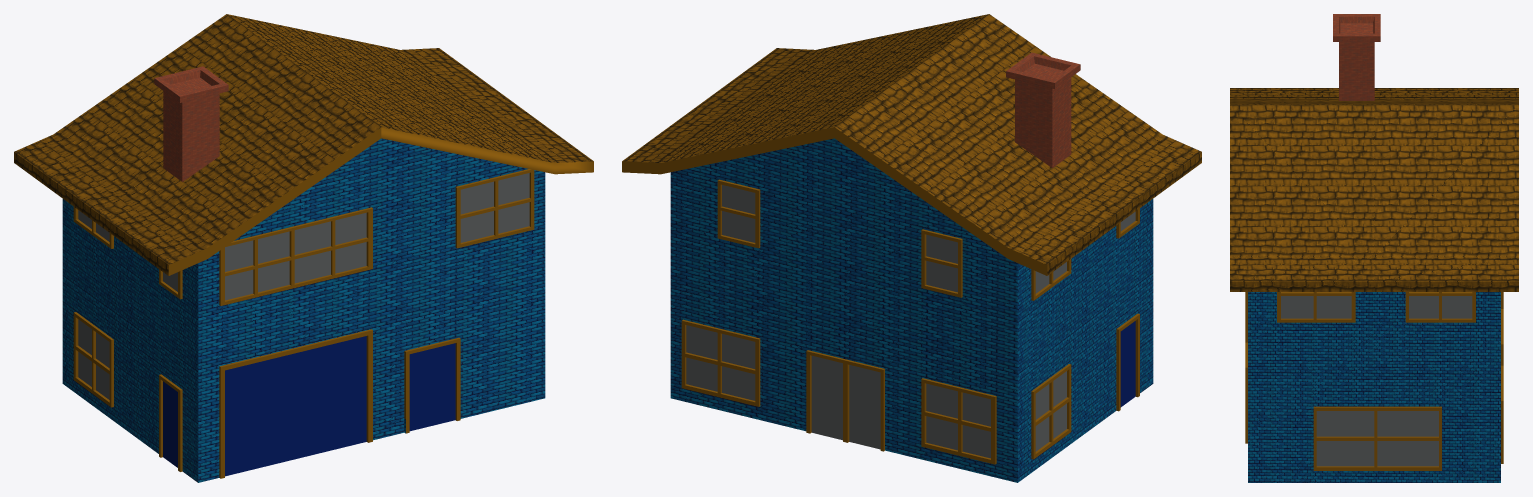
The model's file is House04.fbx.
The picture shows the model from 3 angles, left to right: view 1: azimuth 30°, elevation 25°; view 2: azimuth 150°, elevation 25°; view 3: azimuth 270°, elevation 25°; orthographic projection. The views are drawn at different scales.
Visible parts, largest first — view 1: polySurface3, House04_Roof, House04_Chimney; view 2: polySurface3, House04_Roof, House04_Chimney; view 3: House04_Roof, polySurface3, House04_Chimney.
Part boxes in pixels (x1,y1,x2,y2): polySurface3: [62, 138, 545, 482]; House04_Roof: [14, 14, 593, 275]; House04_Chimney: [154, 66, 228, 181]; polySurface3: [670, 138, 1153, 482]; House04_Roof: [622, 14, 1201, 275]; House04_Chimney: [1006, 52, 1080, 167]; House04_Roof: [1230, 88, 1518, 291]; polySurface3: [1245, 292, 1503, 482]; House04_Chimney: [1333, 14, 1380, 100].
Size of the model in its own units: 260 by 202 by 164.
6 materials, 3 textured.
